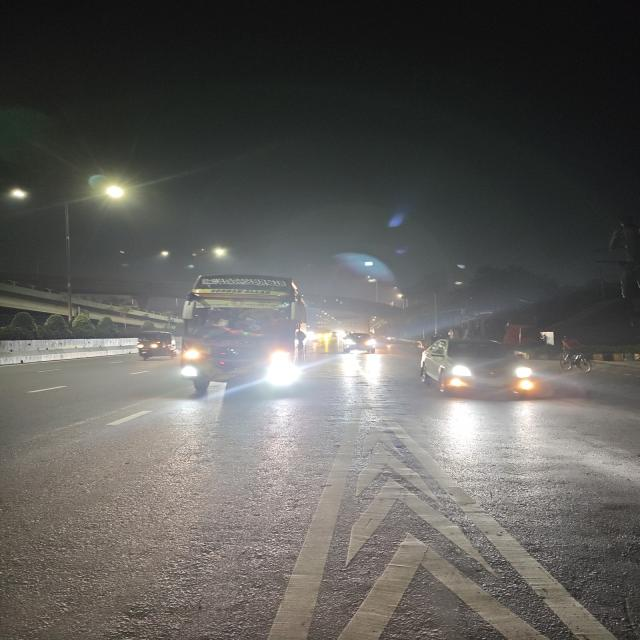bicycle: (555, 335, 592, 374)
bus: (179, 272, 310, 398)
car: (413, 336, 539, 404), (340, 331, 380, 355)
cng: (126, 328, 178, 364)
